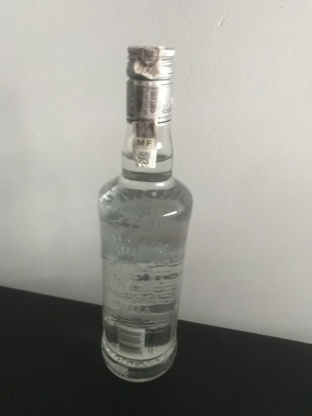nakretka: (124, 44, 175, 128)
